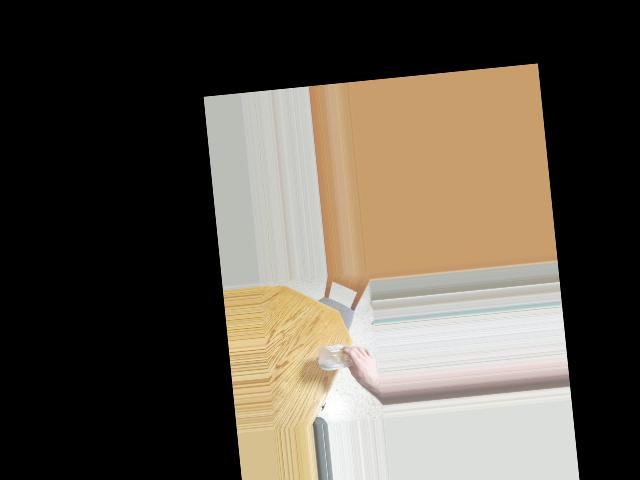cheese: (312, 335, 362, 381)
